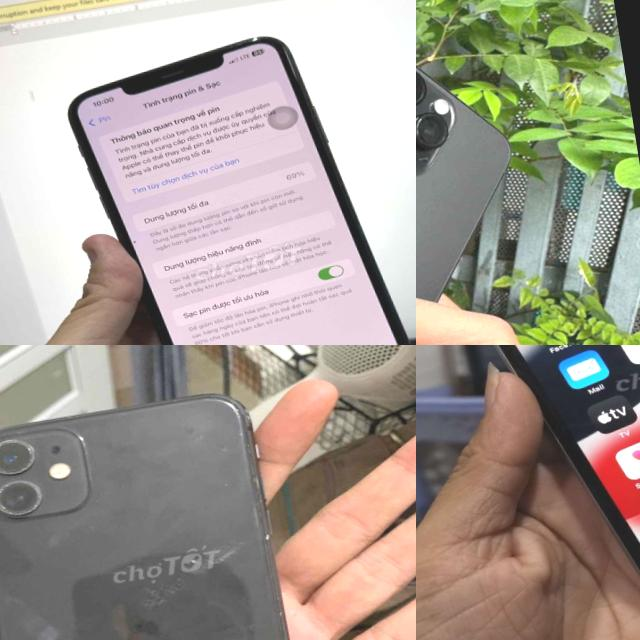scratch: (109, 523, 265, 640), (198, 382, 285, 528), (0, 427, 72, 541), (0, 585, 80, 640), (218, 32, 268, 53)
